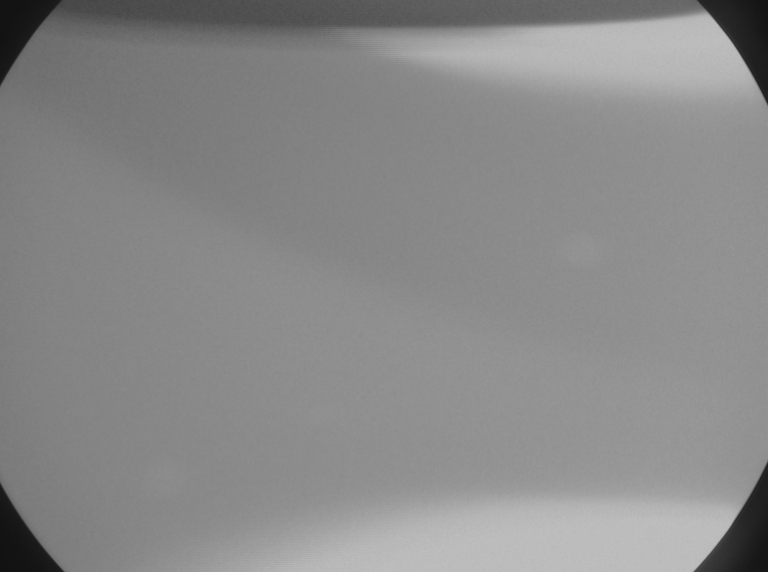defect: (138, 456, 187, 499)
